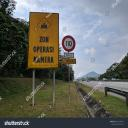speed_limit_110: (62, 33, 76, 59)
